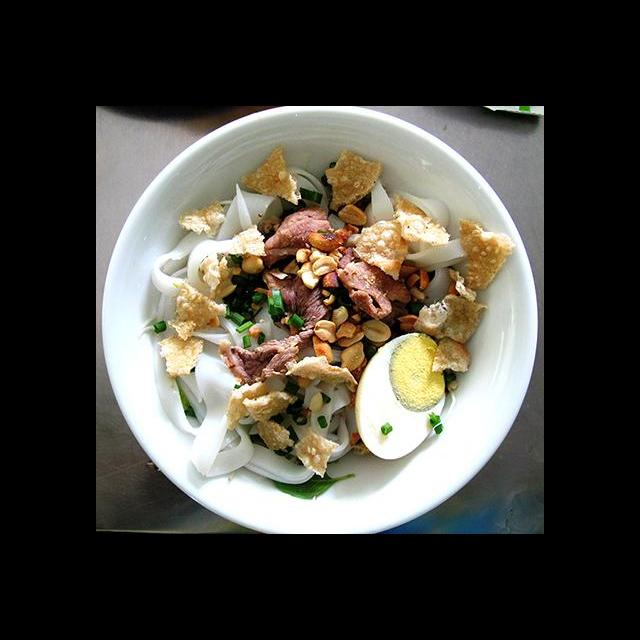banh da: (418, 288, 492, 375), (219, 379, 295, 453), (452, 215, 520, 294), (200, 222, 267, 302), (162, 279, 230, 344), (236, 143, 304, 207), (321, 146, 385, 213), (349, 217, 412, 284), (388, 190, 453, 247), (280, 351, 360, 393), (287, 426, 342, 480), (154, 331, 208, 379), (176, 198, 228, 242)
mi: (145, 188, 365, 484), (359, 175, 470, 308)
thit heo: (216, 264, 335, 388), (331, 244, 415, 323), (258, 203, 336, 269)
trung: (351, 329, 448, 463)
